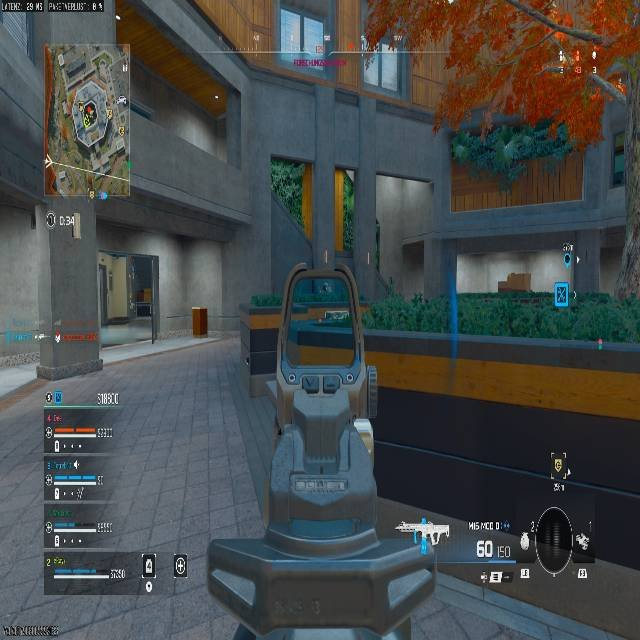player: (130, 287, 151, 318)
